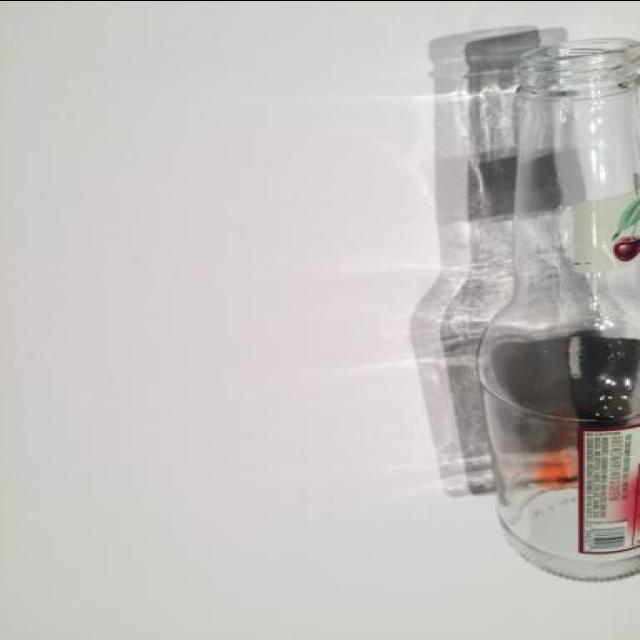Glass Bottle: (476, 31, 638, 581)
